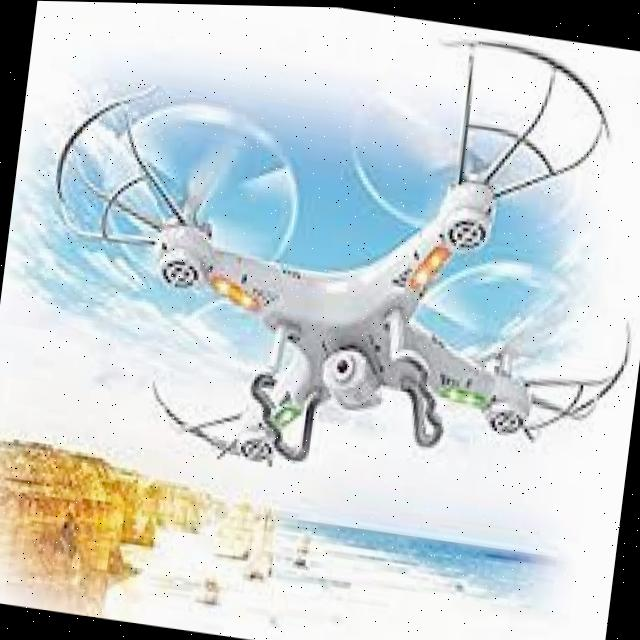drone: (12, 0, 640, 534)
